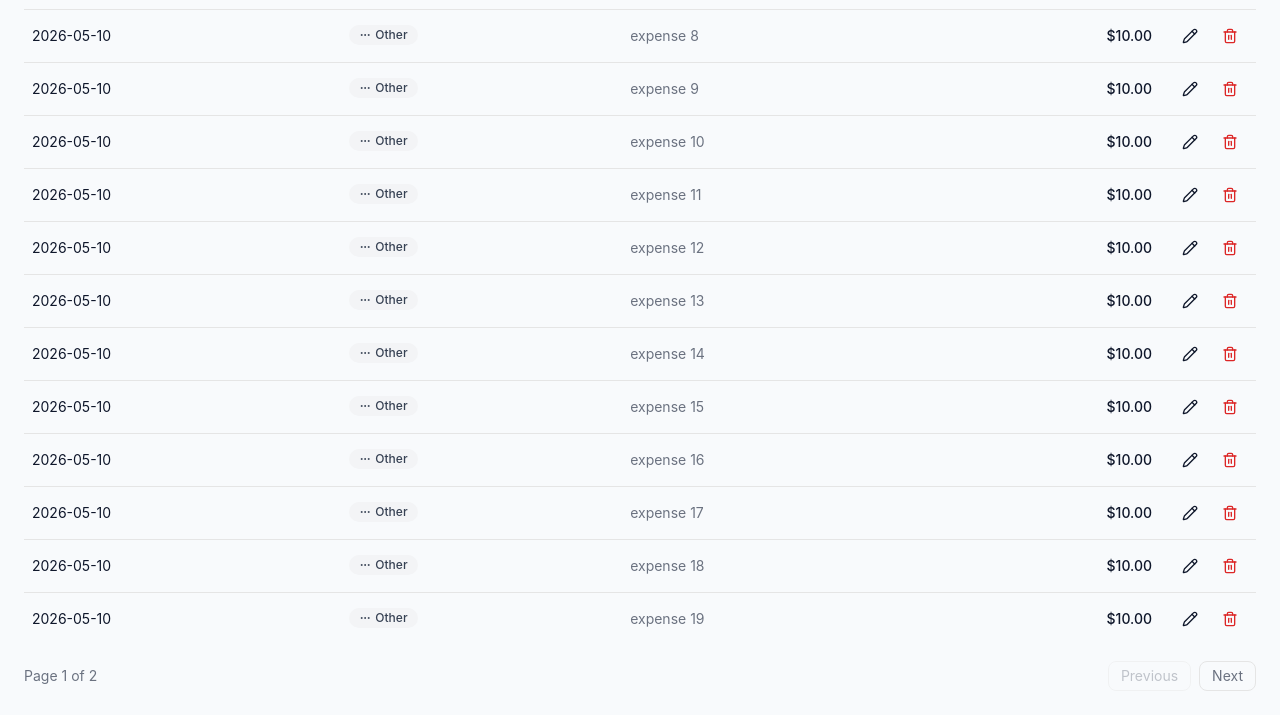
ExpensesPage › navigates previous page
(page scrolled)
Click the button with test id "btn-next-page" at (1228, 676), box top-left (1199, 660), bottom-right (1256, 690)
(page scrolled)
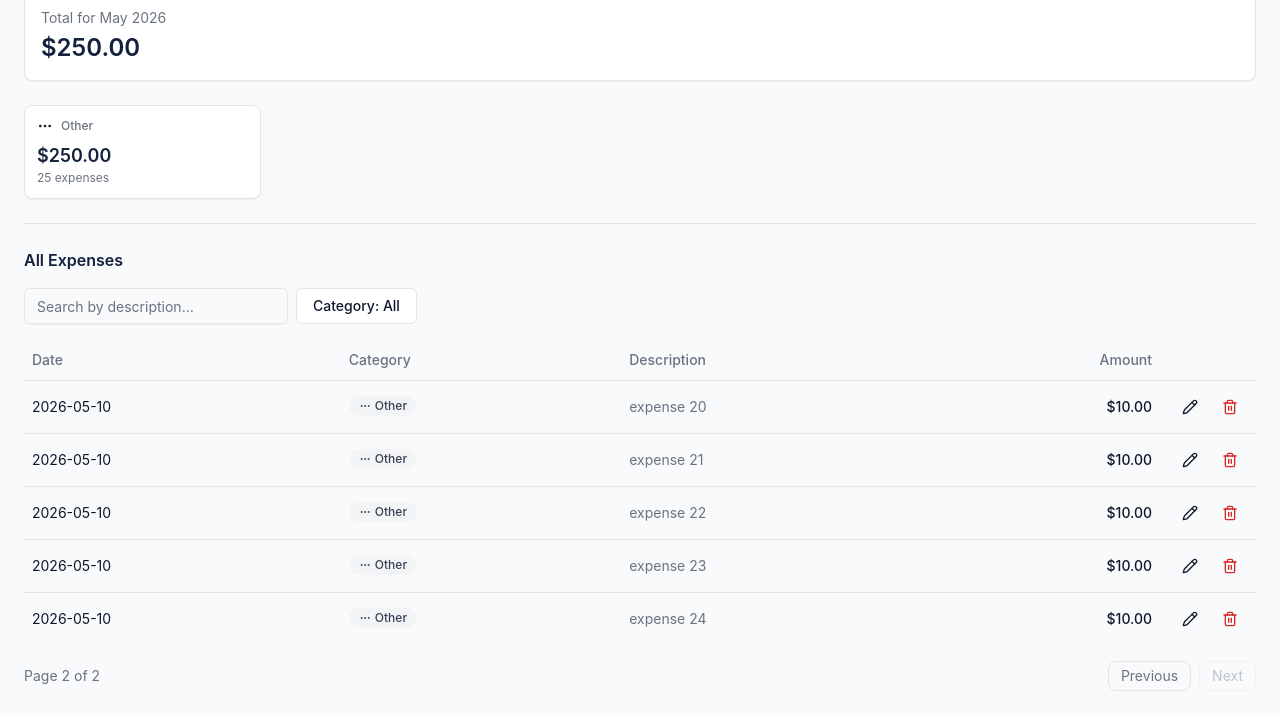
Click the button with test id "btn-prev-page" at (1150, 676), box top-left (1108, 660), bottom-right (1191, 690)
(page scrolled)
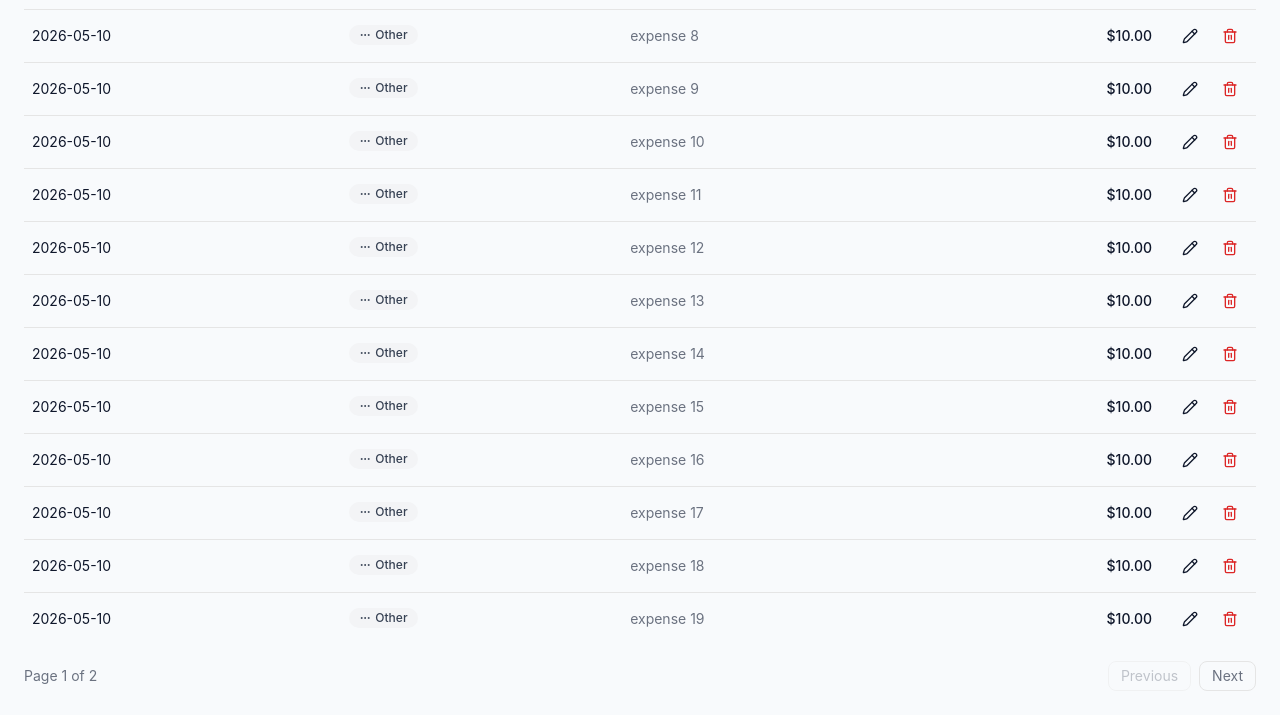
Expected: the button with test id "btn-prev-page" is disabled, top-left (1108, 660), bottom-right (1191, 690)
